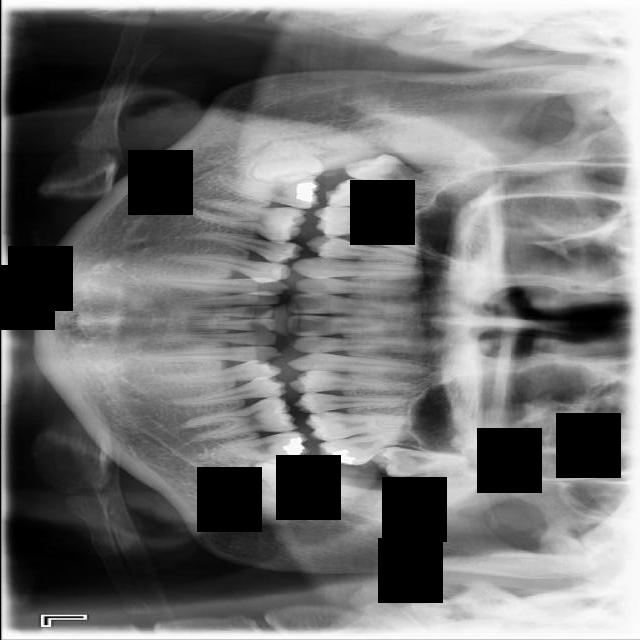3M ESPE Implant: (343, 145, 459, 205)
52: (313, 429, 374, 477), (265, 426, 312, 470), (274, 169, 323, 211)
73: (40, 602, 49, 606)
BioHorizons Implant: (316, 425, 417, 472)
BioLife Implant: (370, 440, 469, 480)
Biomet 3i Implant: (252, 458, 327, 502)
Blue Sky Bio Implant: (209, 431, 309, 466)
Caries: (322, 179, 431, 209)
Implant: (214, 173, 320, 209)
Keystone Dental Implant: (246, 130, 326, 192)
